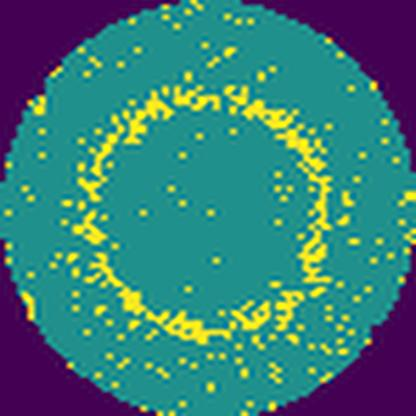Donut: (67, 72, 344, 348)
